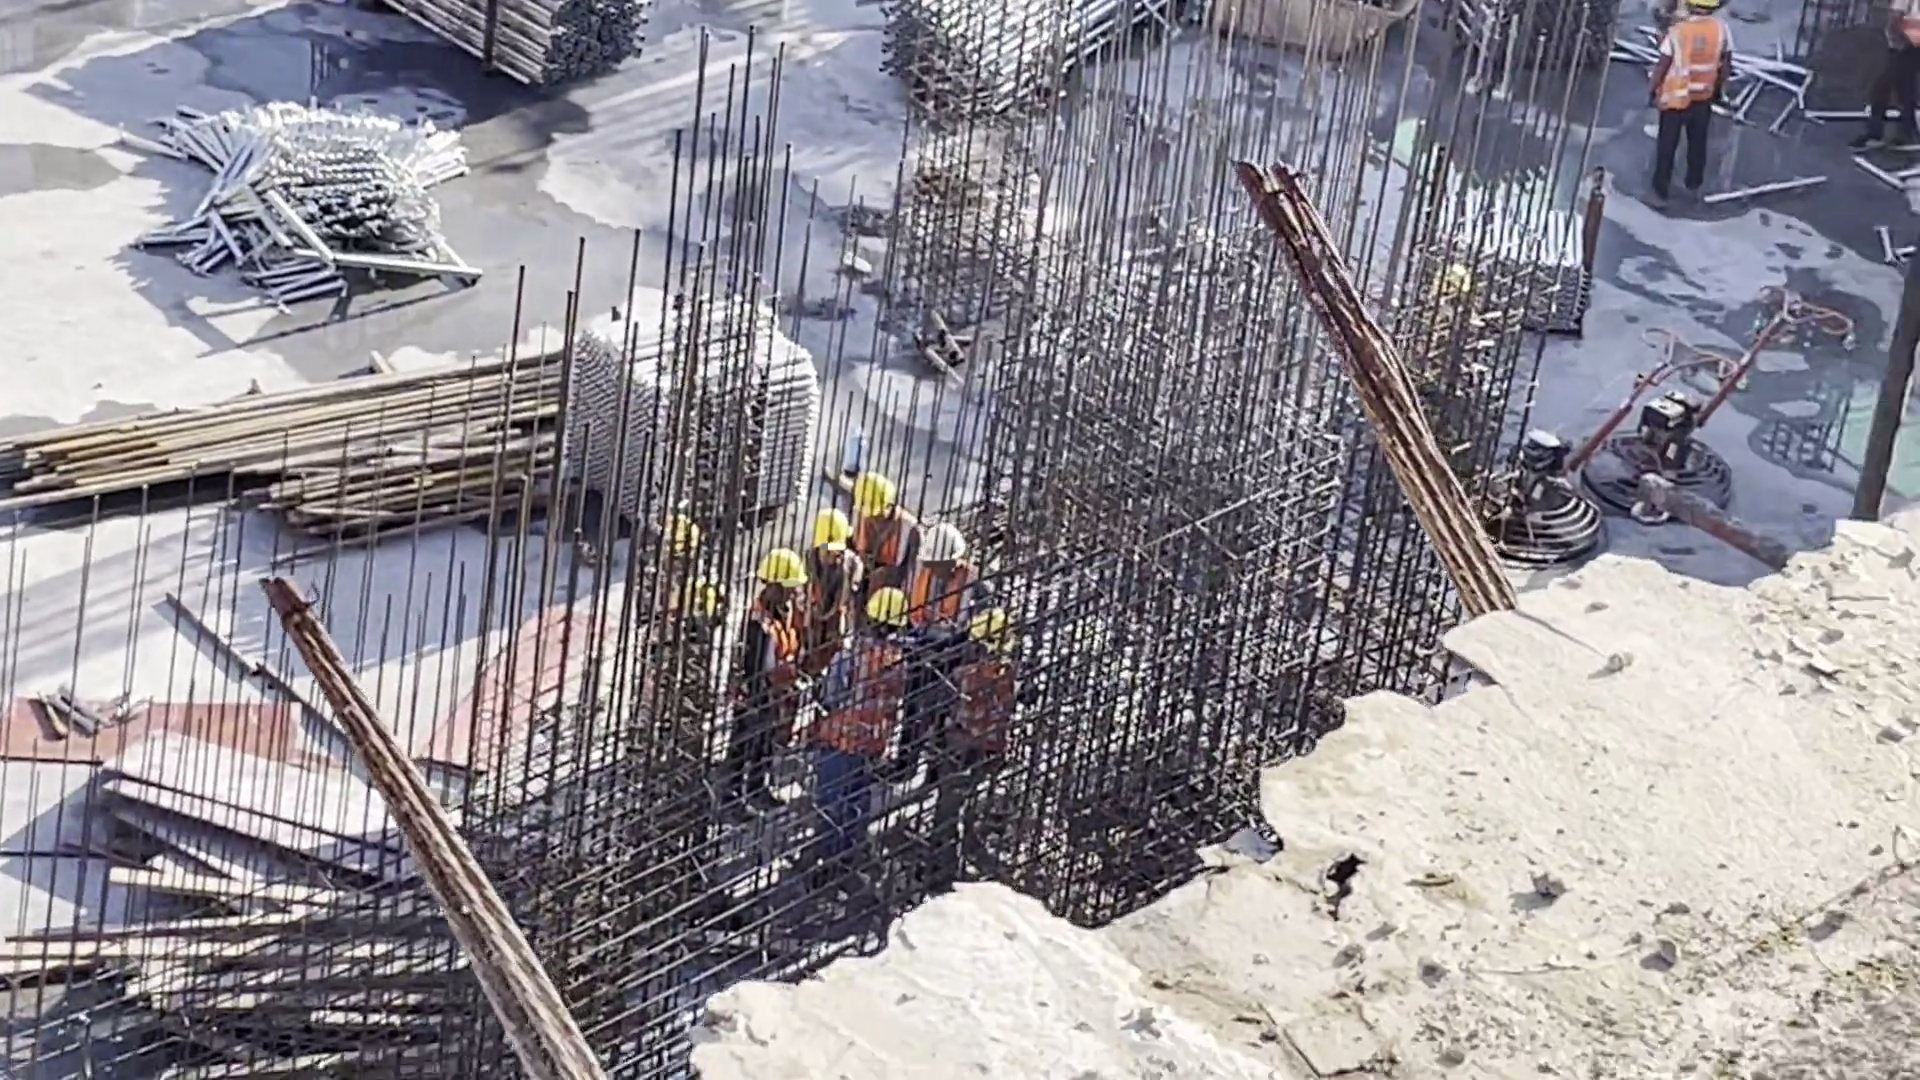helmet: (852, 473, 915, 529), (928, 522, 971, 574), (870, 589, 918, 632), (759, 551, 802, 596), (962, 613, 1018, 646), (814, 514, 853, 547)
person: (807, 585, 912, 884), (929, 607, 1029, 867), (726, 543, 801, 827), (1640, 1, 1733, 205), (848, 468, 932, 610), (798, 499, 861, 680), (910, 521, 988, 646)
vest: (834, 649, 900, 752), (1661, 30, 1735, 121), (748, 598, 806, 709), (950, 666, 1022, 747), (855, 525, 921, 584), (810, 577, 859, 637), (921, 576, 974, 620)
